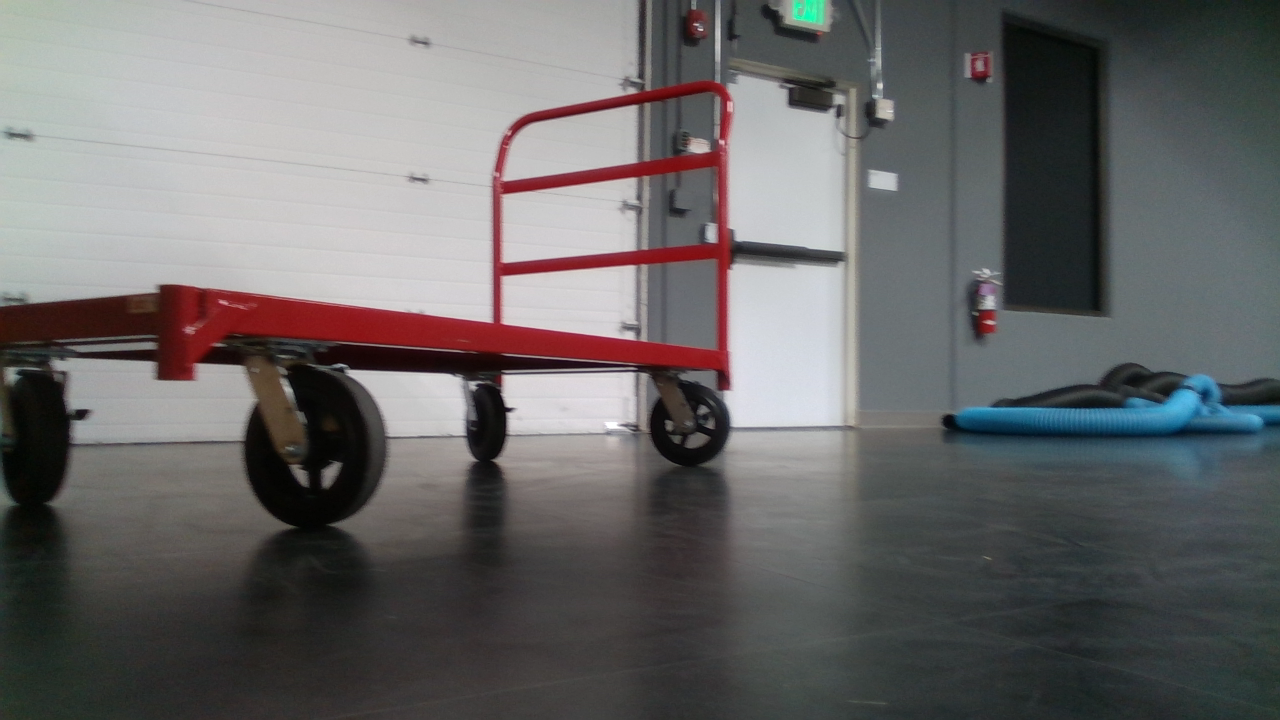Dolly: (0, 69, 743, 533)
Wheel: (240, 364, 393, 529), (1, 359, 84, 508), (645, 376, 732, 466), (458, 374, 514, 465)
